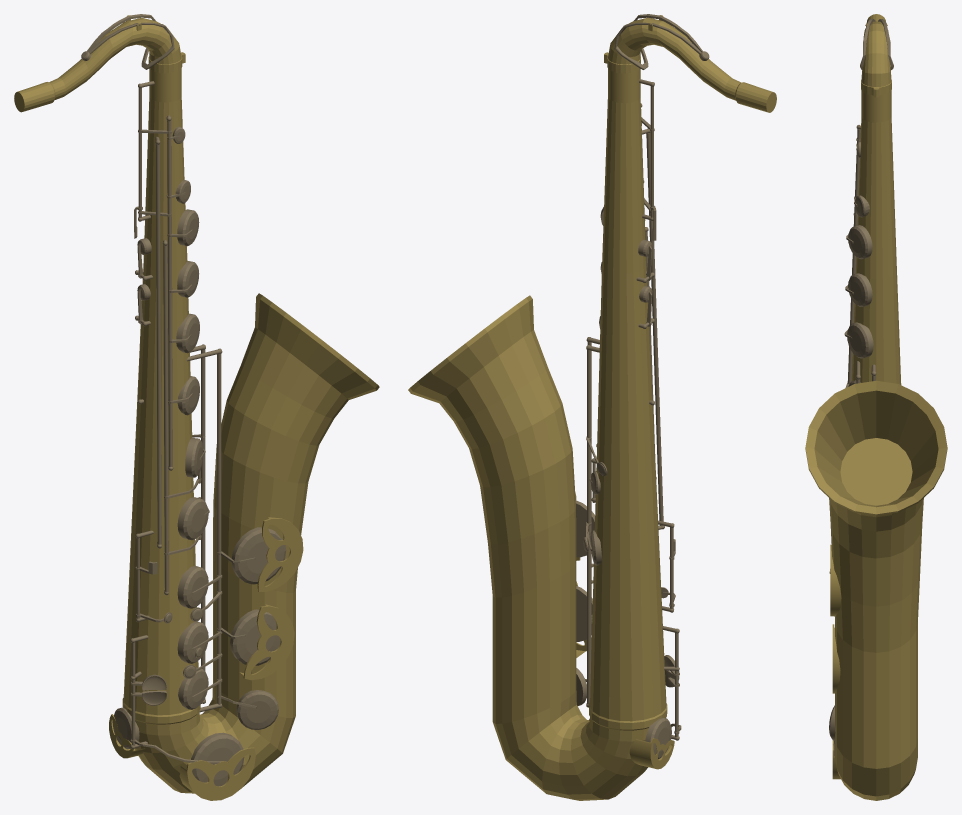
The model's file is IN_Sax.fbx.
The picture shows the model from 3 angles, left to right: view 1: azimuth 30°, elevation 25°; view 2: azimuth 150°, elevation 25°; view 3: azimuth 270°, elevation 25°; orthographic projection. The views are drawn at different scales.
Parts seen in each view (by area): view 1: polySurface8; view 2: polySurface8; view 3: polySurface8.
Boxes of the visible parts, bbox=[...] form: polySurface8: bbox=[14, 14, 379, 800]; polySurface8: bbox=[408, 14, 776, 800]; polySurface8: bbox=[805, 14, 947, 800].
Size of the model in its own units: 10.6 by 23.07 by 4.06.
